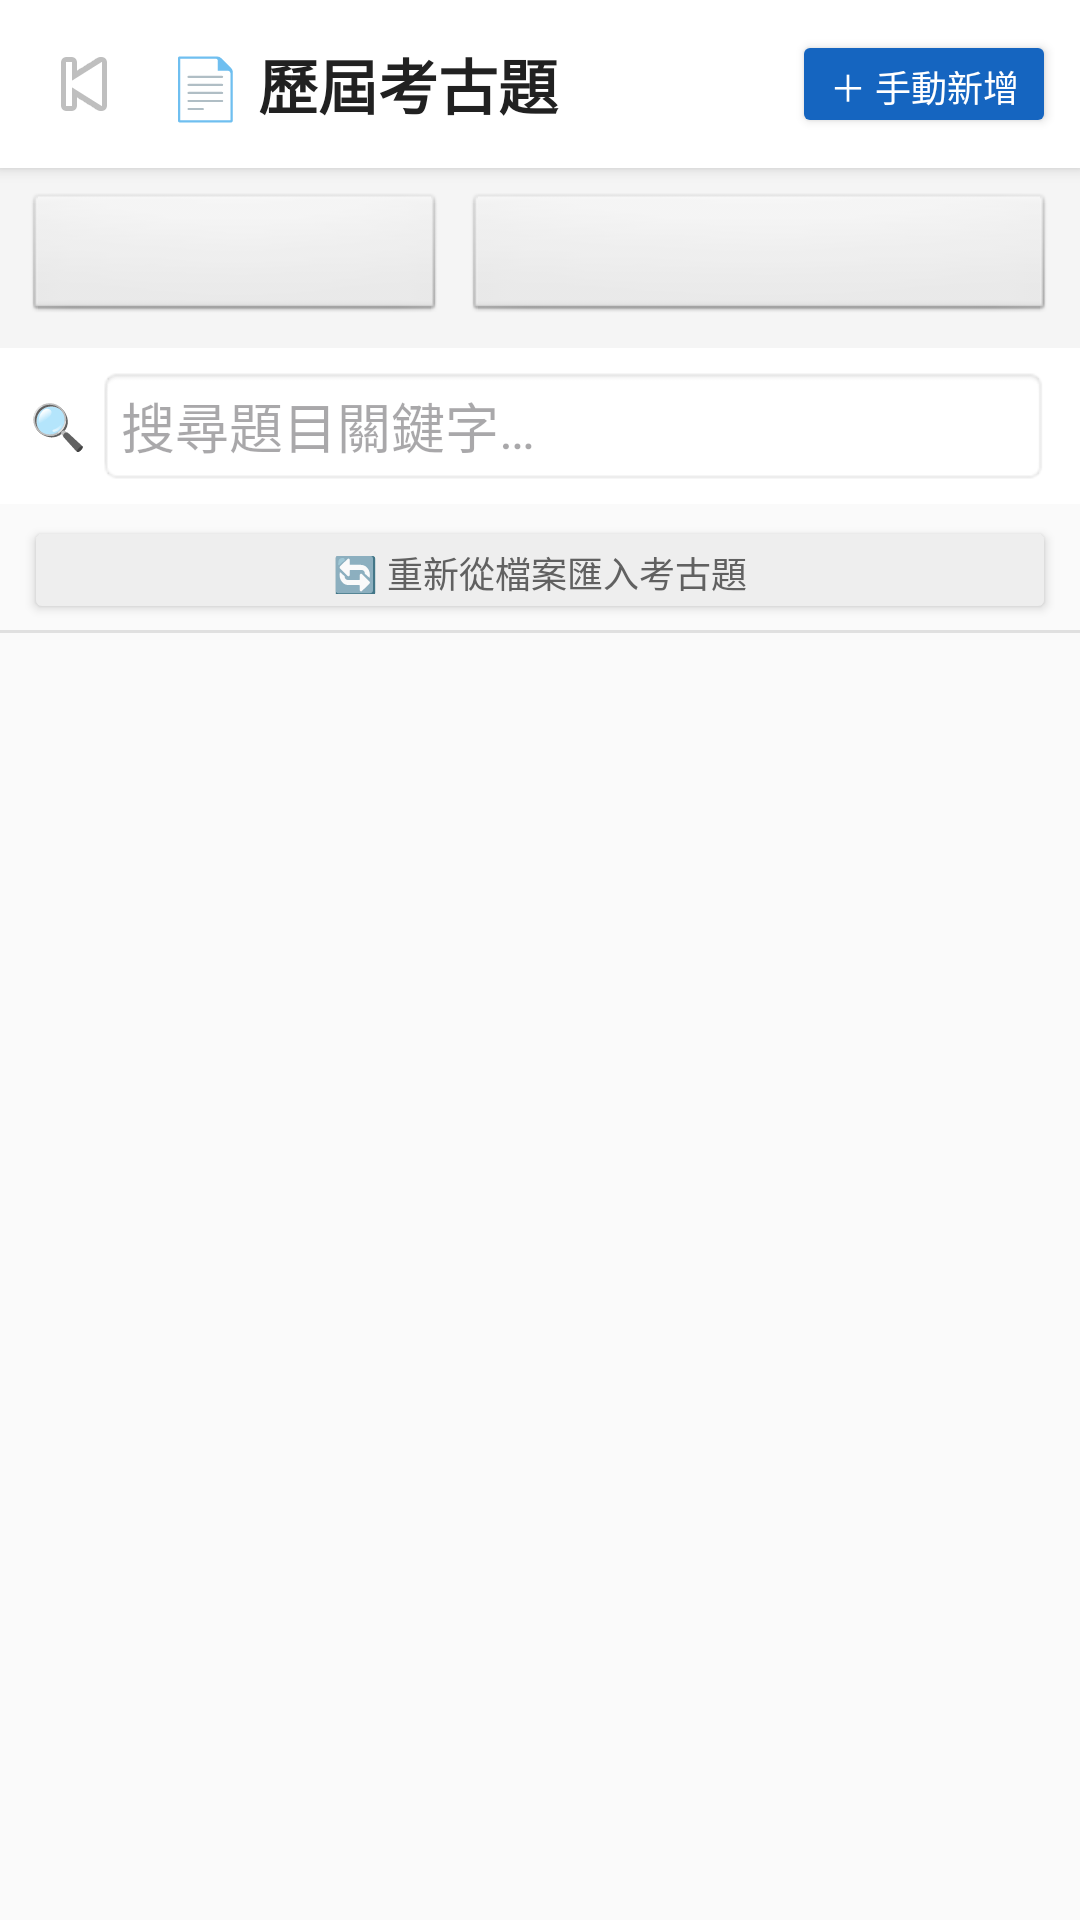

Point at icon controls on the screen. Image size 1080×1920, points as [x,y].
返回: [84,84]
